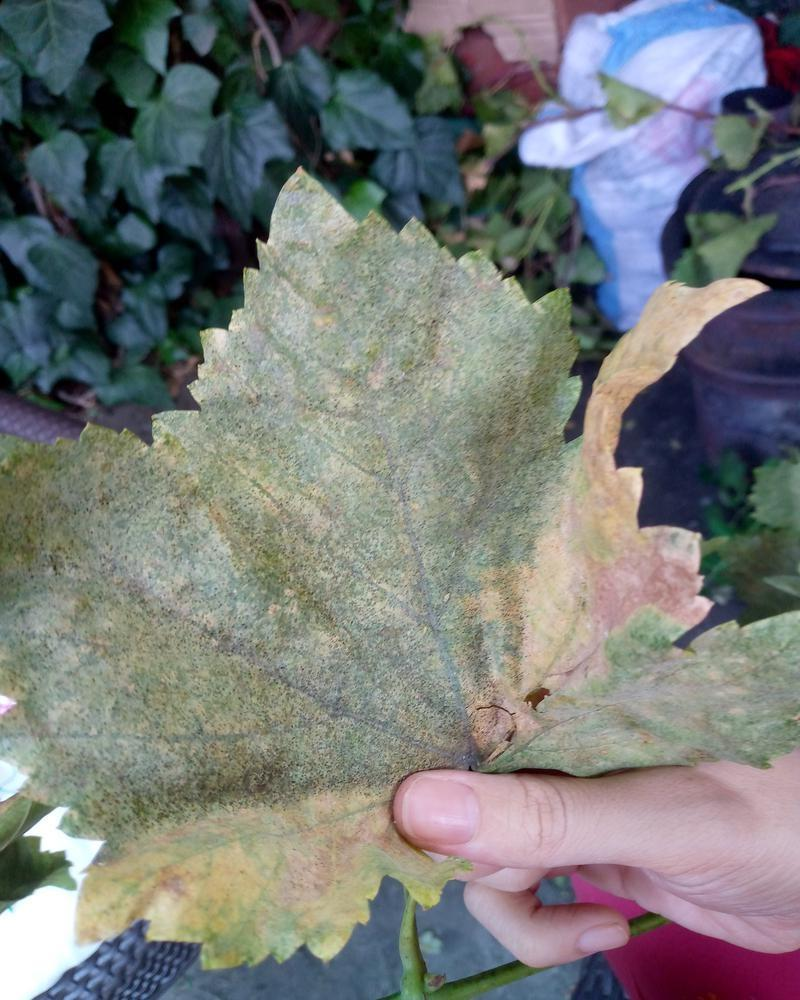Powdery-Mildew: (458, 272, 769, 753), (200, 189, 507, 556), (83, 743, 393, 961), (0, 503, 233, 754), (608, 634, 793, 774), (309, 560, 436, 687)
